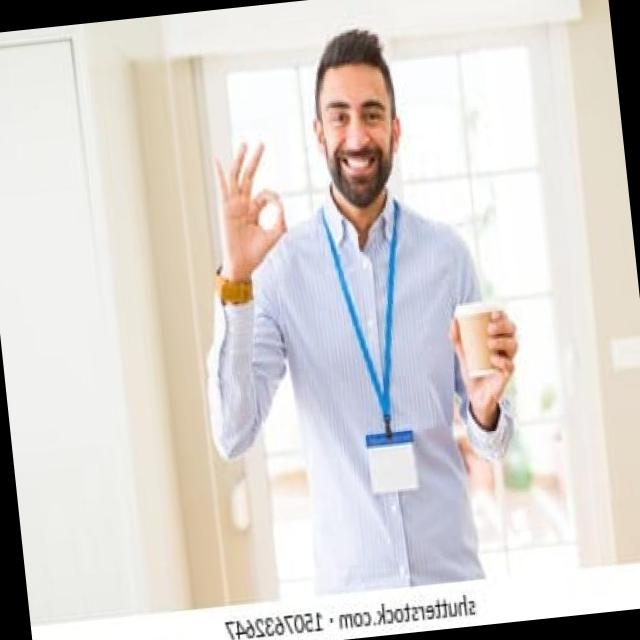id_card: (320, 198, 430, 500)
